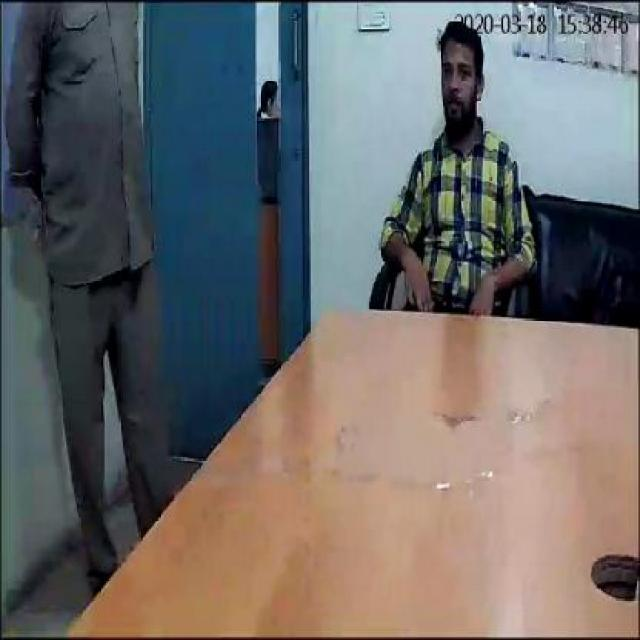spill: (340, 396, 568, 492)
